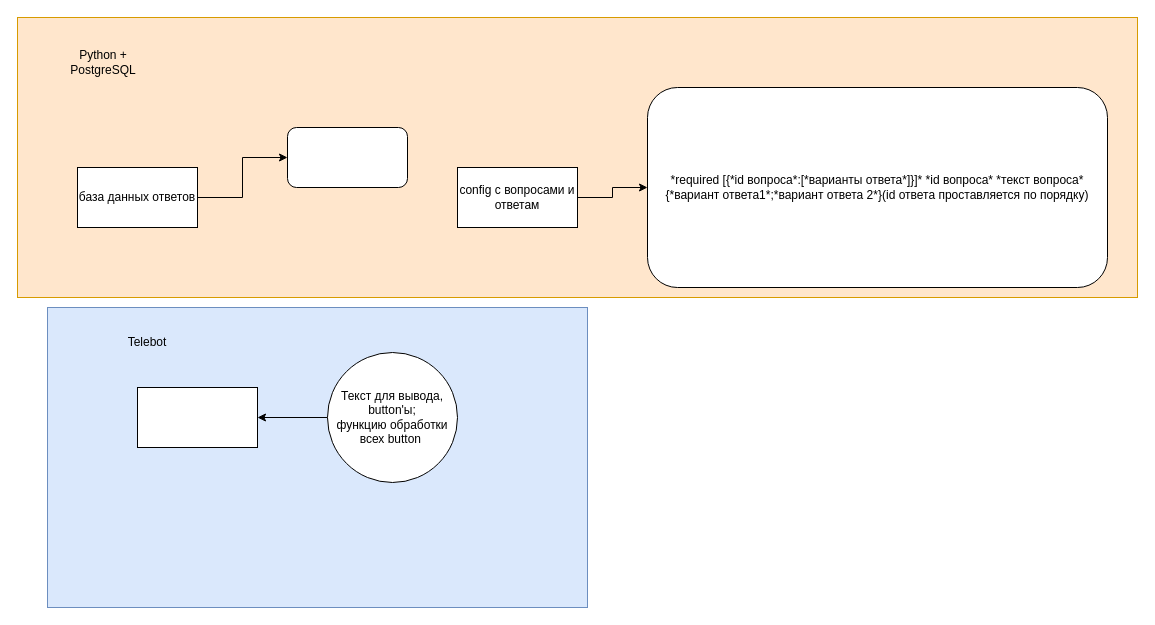
Some shapes in this 1155 by 625 pixel diagram are drawn without their labels. Each missing label, with the centre of its shape:
Ник опрашиваемого, id вопроса id ответа: [347,157]
объект динамического построения button и текст: [197,417]
